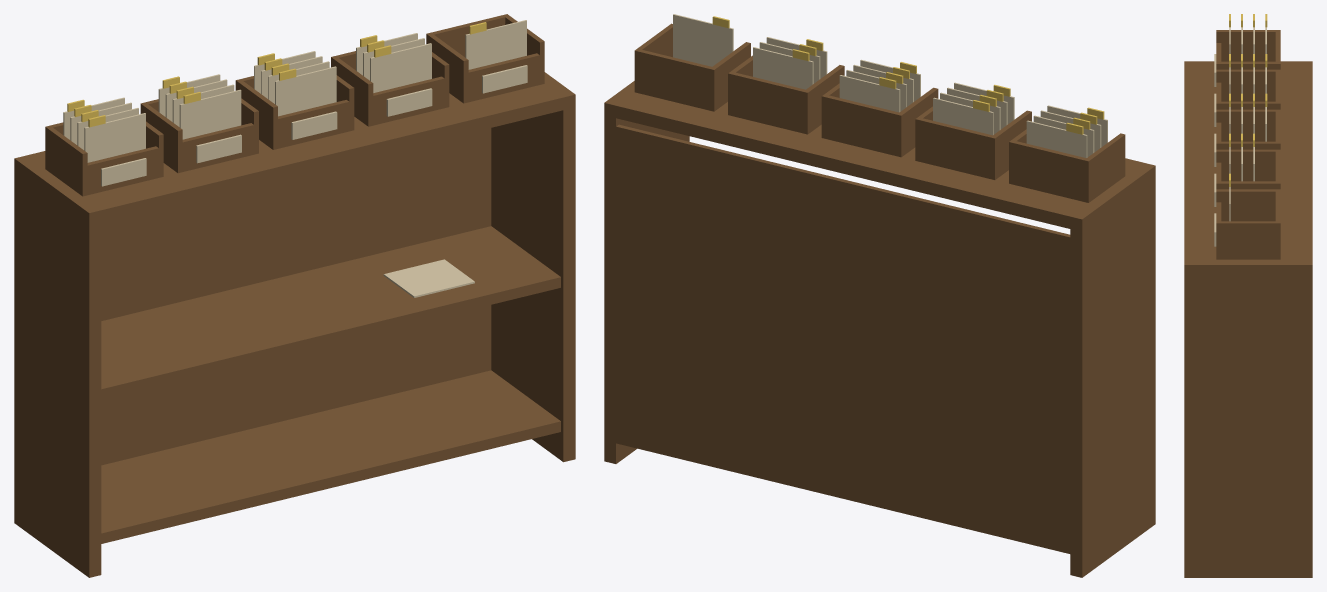
The model's file is Prop_YTM_CardShelf_Filled_LOD1.glb.
3 views of the same model, side by side, from view 1: azimuth 30°, elevation 25°; view 2: azimuth 150°, elevation 25°; view 3: azimuth 270°, elevation 25° (orthographic). The views are drawn at different scales.
Parts seen in each view (by area): view 1: Prop_YTM_CardShelf_Filled, Prop_YTM_CardShelf_Filled_Cards; view 2: Prop_YTM_CardShelf_Filled, Prop_YTM_CardShelf_Filled_Cards; view 3: Prop_YTM_CardShelf_Filled, Prop_YTM_CardShelf_Filled_Cards.
Boxes of the visible parts, x1=… form: Prop_YTM_CardShelf_Filled: x1=14, y1=14, x2=575, y2=577; Prop_YTM_CardShelf_Filled_Cards: x1=63, y1=20, x2=526, y2=162; Prop_YTM_CardShelf_Filled: x1=604, y1=23, x2=1155, y2=577; Prop_YTM_CardShelf_Filled_Cards: x1=673, y1=14, x2=1107, y2=157; Prop_YTM_CardShelf_Filled: x1=1184, y1=30, x2=1312, y2=577; Prop_YTM_CardShelf_Filled_Cards: x1=1229, y1=14, x2=1267, y2=221.
Bounding box in the file's own units: 1.2 × 1.02 × 0.32.
